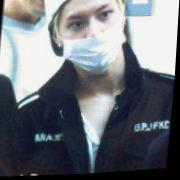WRONG: (61, 1, 126, 76)
